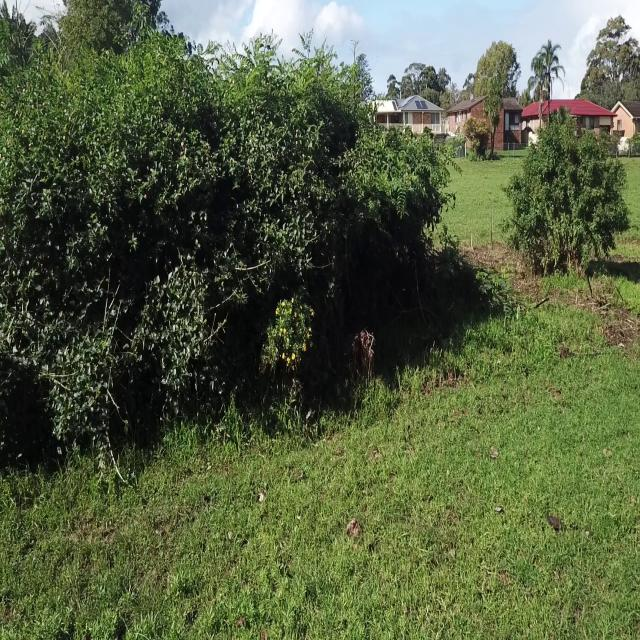Mysore-Thorn-Weed: (430, 223, 508, 319)
